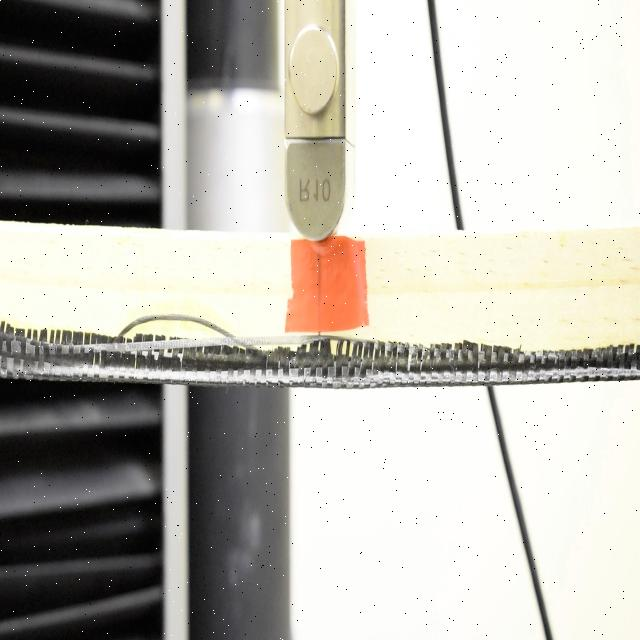wood: (1, 221, 640, 384)
